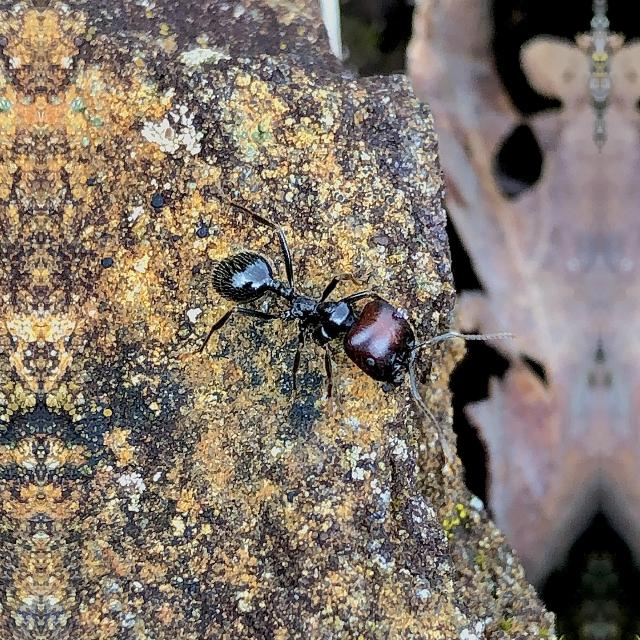Messor: (202, 225, 444, 399)
